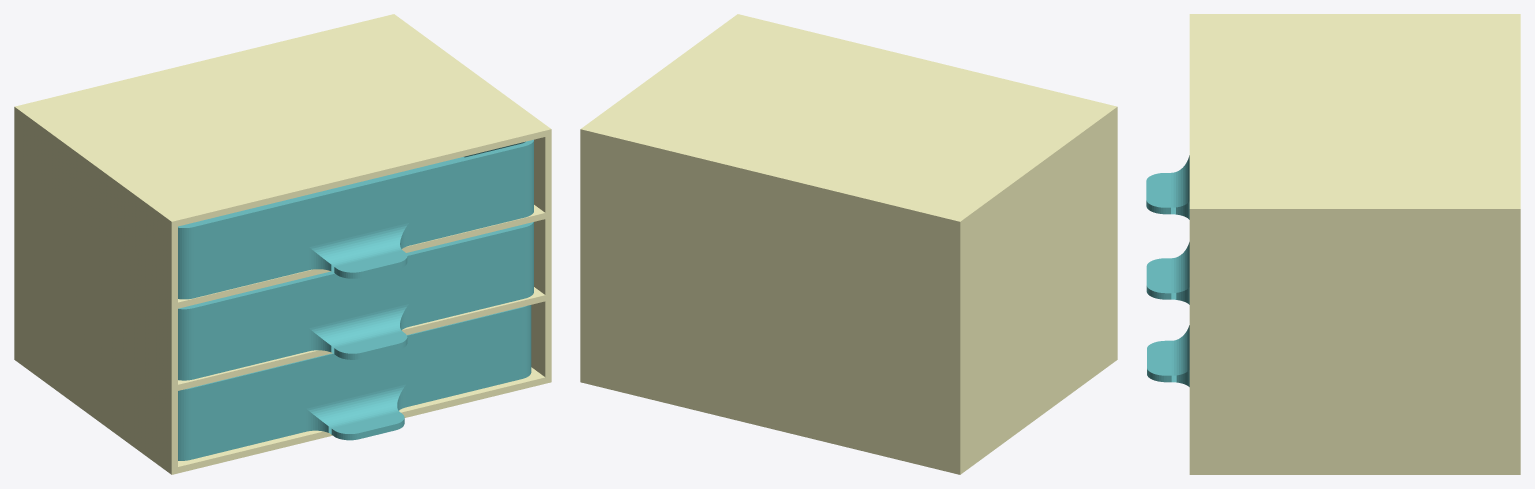
The model's file is drawer.fbx.
The picture shows the model from 3 angles, left to right: view 1: azimuth 30°, elevation 25°; view 2: azimuth 150°, elevation 25°; view 3: azimuth 270°, elevation 25°; orthographic projection. The views are drawn at different scales.
Parts seen in each view (by area): view 1: X3_Parts_Tray_Holder, Parts_Tray_Drawer, Parts_Tray_Drawer_2, Parts_Tray_Drawer_4; view 2: X3_Parts_Tray_Holder; view 3: X3_Parts_Tray_Holder, Parts_Tray_Drawer, Parts_Tray_Drawer_2, Parts_Tray_Drawer_4.
Part boxes in pixels (left/top/right/bottom): X3_Parts_Tray_Holder: left=14, top=14, right=551, bottom=474; Parts_Tray_Drawer: left=178, top=139, right=533, bottom=299; Parts_Tray_Drawer_2: left=178, top=222, right=533, bottom=380; Parts_Tray_Drawer_4: left=178, top=305, right=531, bottom=460; X3_Parts_Tray_Holder: left=580, top=14, right=1117, bottom=474; X3_Parts_Tray_Holder: left=1189, top=14, right=1520, bottom=474; Parts_Tray_Drawer: left=1146, top=155, right=1189, bottom=219; Parts_Tray_Drawer_2: left=1146, top=242, right=1189, bottom=304; Parts_Tray_Drawer_4: left=1147, top=325, right=1189, bottom=386.
Size of the model in its own units: 83.6 by 53.25 by 67.86.
